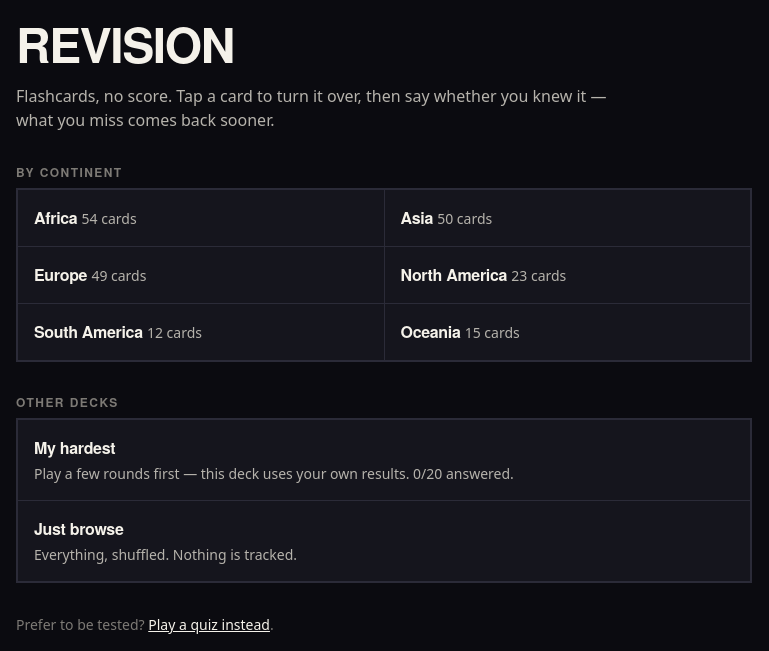
Test: flashcards › shows the country name first, with the answer hidden
The width and height of the screenshot is (769, 651).
Click the button "Europe 49 cards": x=61, y=274 left=18, top=247, right=384, bottom=303
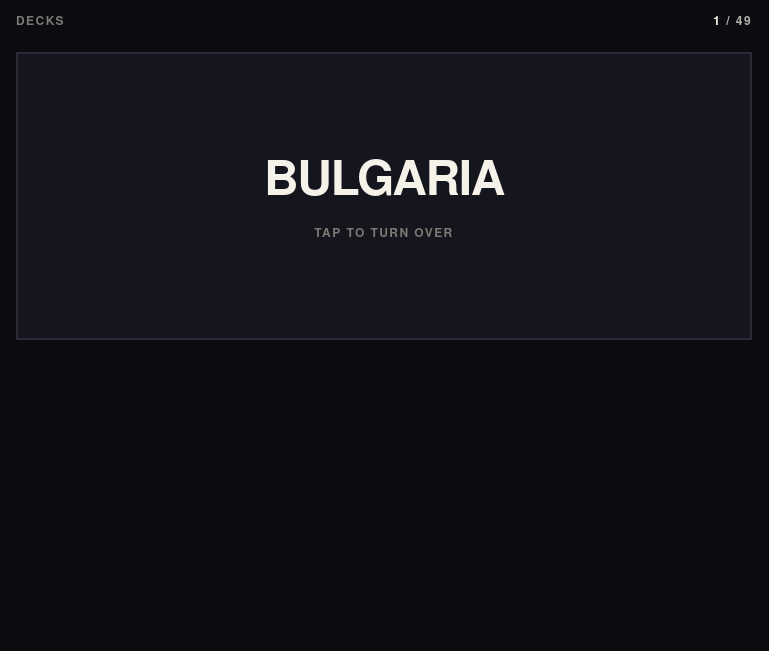
Result: the text "Tap to turn over" is shown at left=314, top=224, right=454, bottom=240
